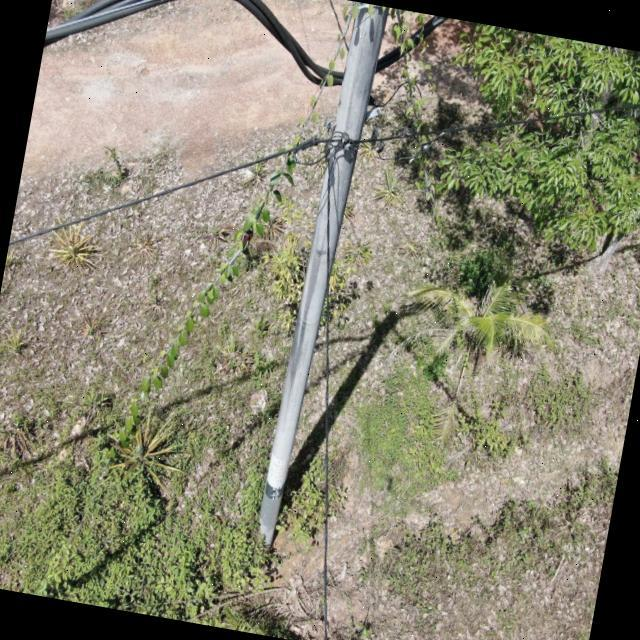critical vegetation: (90, 0, 359, 507), (324, 36, 554, 440)
